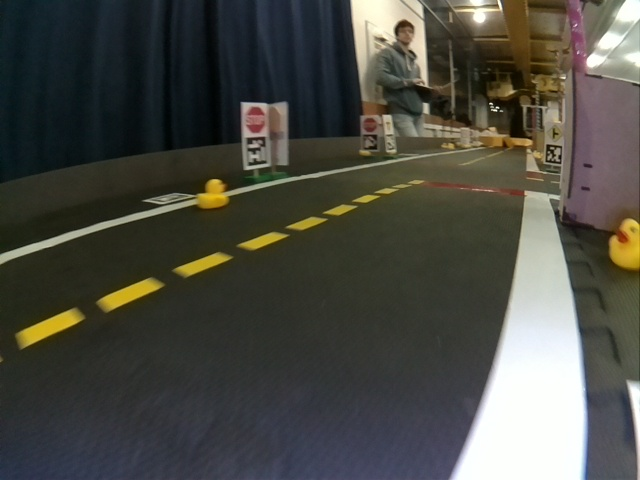Duckie: (608, 219, 634, 271), (197, 179, 227, 209)
Intersection sign: (548, 124, 564, 143)
QR code: (243, 138, 270, 167), (146, 193, 194, 205), (544, 147, 563, 164), (360, 135, 379, 151), (384, 135, 398, 152)
Stop sign: (245, 105, 268, 136), (361, 116, 378, 133)
